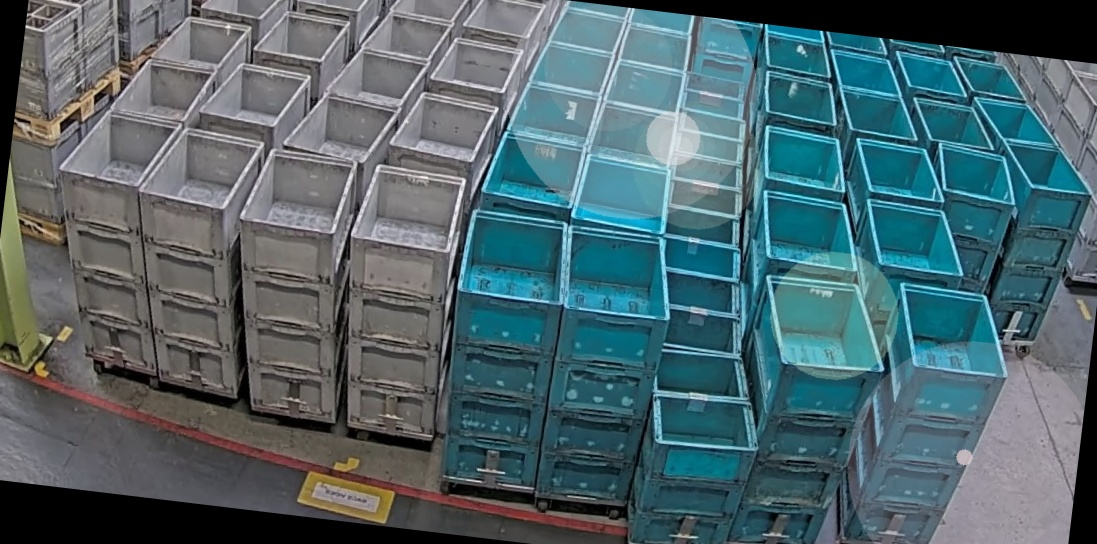4G: (113, 123, 271, 401), (214, 143, 368, 425), (35, 105, 189, 381), (326, 159, 467, 442)
B4: (838, 278, 1020, 544), (723, 269, 896, 544), (531, 223, 681, 512), (432, 207, 570, 496), (916, 140, 1023, 303)
B8: (627, 343, 772, 544)
